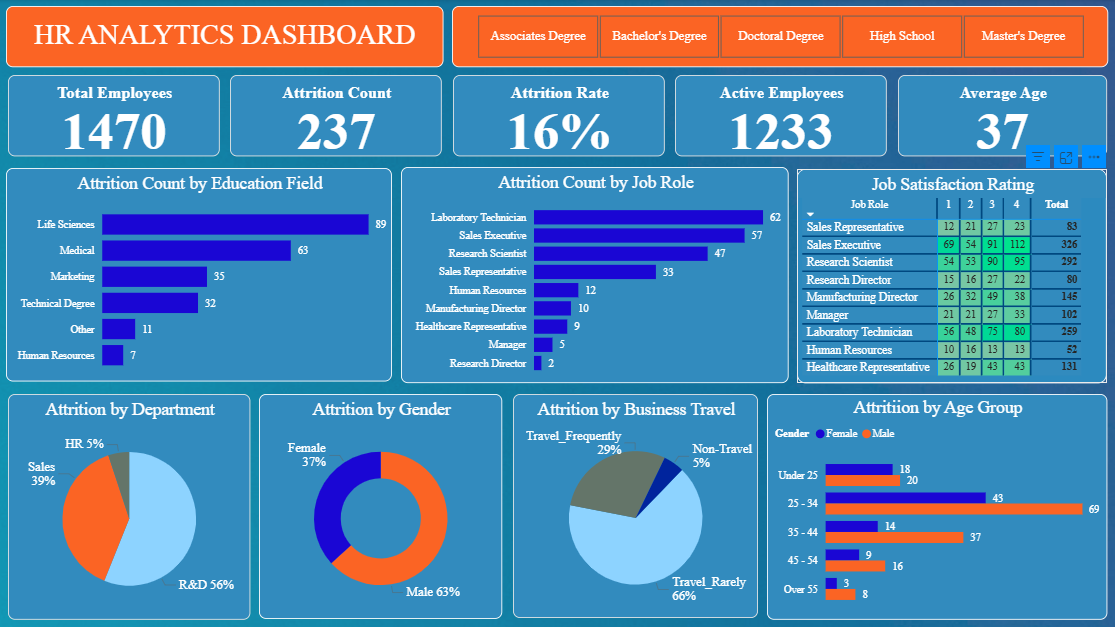

The dashboard page shown, as its layout file describes it:
{"tool":"powerbi","page":{"name":"Dashboard","canvas":[1280,720],"ordinal":0},"visuals":[{"type":"card","title":"Total Employees","fields":{"Values":["All Measures.Total_Employees"]},"box":[11.4,86.9,242,92.6],"z":0},{"type":"card","title":"Attrition Count","fields":{"Values":["All Measures.Attrition"]},"box":[265.1,86.9,242.3,92.6],"z":1000},{"type":"card","title":"Attrition Rate","fields":{"Values":["All Measures.Attrition Rate"]},"box":[520,86.9,242.3,92.6],"z":2000},{"type":"card","title":"Active Employees","fields":{"Values":["All Measures.Active Employees"]},"box":[773.7,86.9,242,92.6],"z":3000},{"type":"card","title":"Average Age","fields":{"Values":["All Measures.Average Age"]},"box":[1028.6,86.9,238.9,92.6],"z":4000},{"type":"pieChart","title":"Attrition by Department","fields":{"Category":["HR data.Department"],"Y":["All Measures.Attrition"]},"box":[11,450.9,277.1,258.4],"z":5000},{"type":"clusteredBarChart","title":"Attritiion by Age Group","fields":{"Category":["HR data.CF_age band"],"Series":["HR data.Gender"],"Y":["All Measures.Attrition Count"]},"box":[878.9,451.4,388.6,258.3],"z":6000},{"type":"pivotTable","title":"Job Satisfaction Rating","fields":{"Rows":["HR data.Job Role"],"Columns":["HR data.Job Satisfaction"],"Values":["All Measures.Total_Employees"]},"box":[913.1,194.3,354.3,244.6],"z":7000},{"type":"barChart","fields":{"Y":["All Measures.Attrition"],"Category":["HR data.Education Field"]},"box":[9.4,193,441.4,244.2],"z":8000},{"type":"donutChart","title":"Attrition by Gender","fields":{"Category":["HR data.Gender"],"Y":["All Measures.Attrition Count"]},"box":[298,452,278.2,257.3],"z":9000},{"type":"pieChart","title":"Attrition by Business Travel","fields":{"Category":["HR data.Business Travel"],"Y":["All Measures.Attrition Count"]},"box":[588.3,452,280.4,256.2],"z":10000},{"type":"barChart","fields":{"Category":["HR data.Job Role"],"Y":["All Measures.Attrition Count"]},"box":[460.6,192,443.4,246.9],"z":11000},{"type":"textbox","box":[9.1,8,500,69.7],"z":12000},{"type":"slicer","fields":{"Values":["HR data.Education"]},"box":[518.9,8,749.7,69.7],"z":13000}]}

Visuals, with their boxes in screenshot pixels (x1, y1, x2, y2), scaled from the page's 1280x720 canvas onto the 1115x627 screenshot:
"Total Employees" card: 10 76 221 156
"Attrition Count" card: 231 76 442 156
"Attrition Rate" card: 453 76 664 156
"Active Employees" card: 674 76 885 156
"Average Age" card: 896 76 1104 156
"Attrition by Department" pieChart: 10 393 251 618
"Attritiion by Age Group" clusteredBarChart: 766 393 1104 618
"Job Satisfaction Rating" pivotTable: 795 169 1104 382
barChart - All Measures.Attrition x HR data.Education Field: 8 168 393 381
"Attrition by Gender" donutChart: 260 394 502 618
"Attrition by Business Travel" pieChart: 512 394 757 617
barChart - HR data.Job Role x All Measures.Attrition Count: 401 167 787 382
textbox: 8 7 443 68
slicer - HR data.Education: 452 7 1105 68
